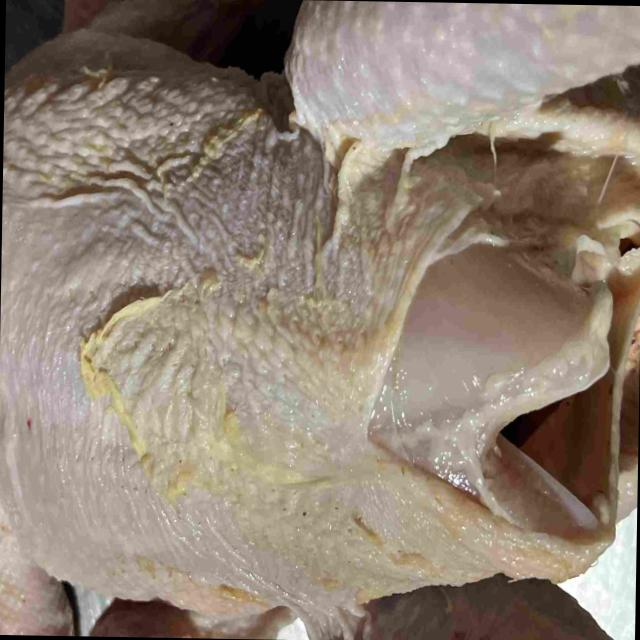breast: (0, 33, 596, 601)
leg: (289, 0, 640, 141)
neck: (0, 509, 71, 636)
